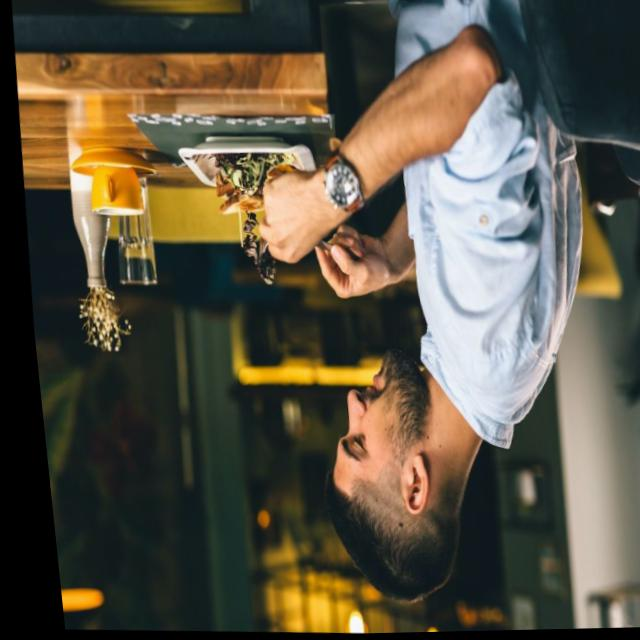eating-person: (174, 0, 626, 637)
